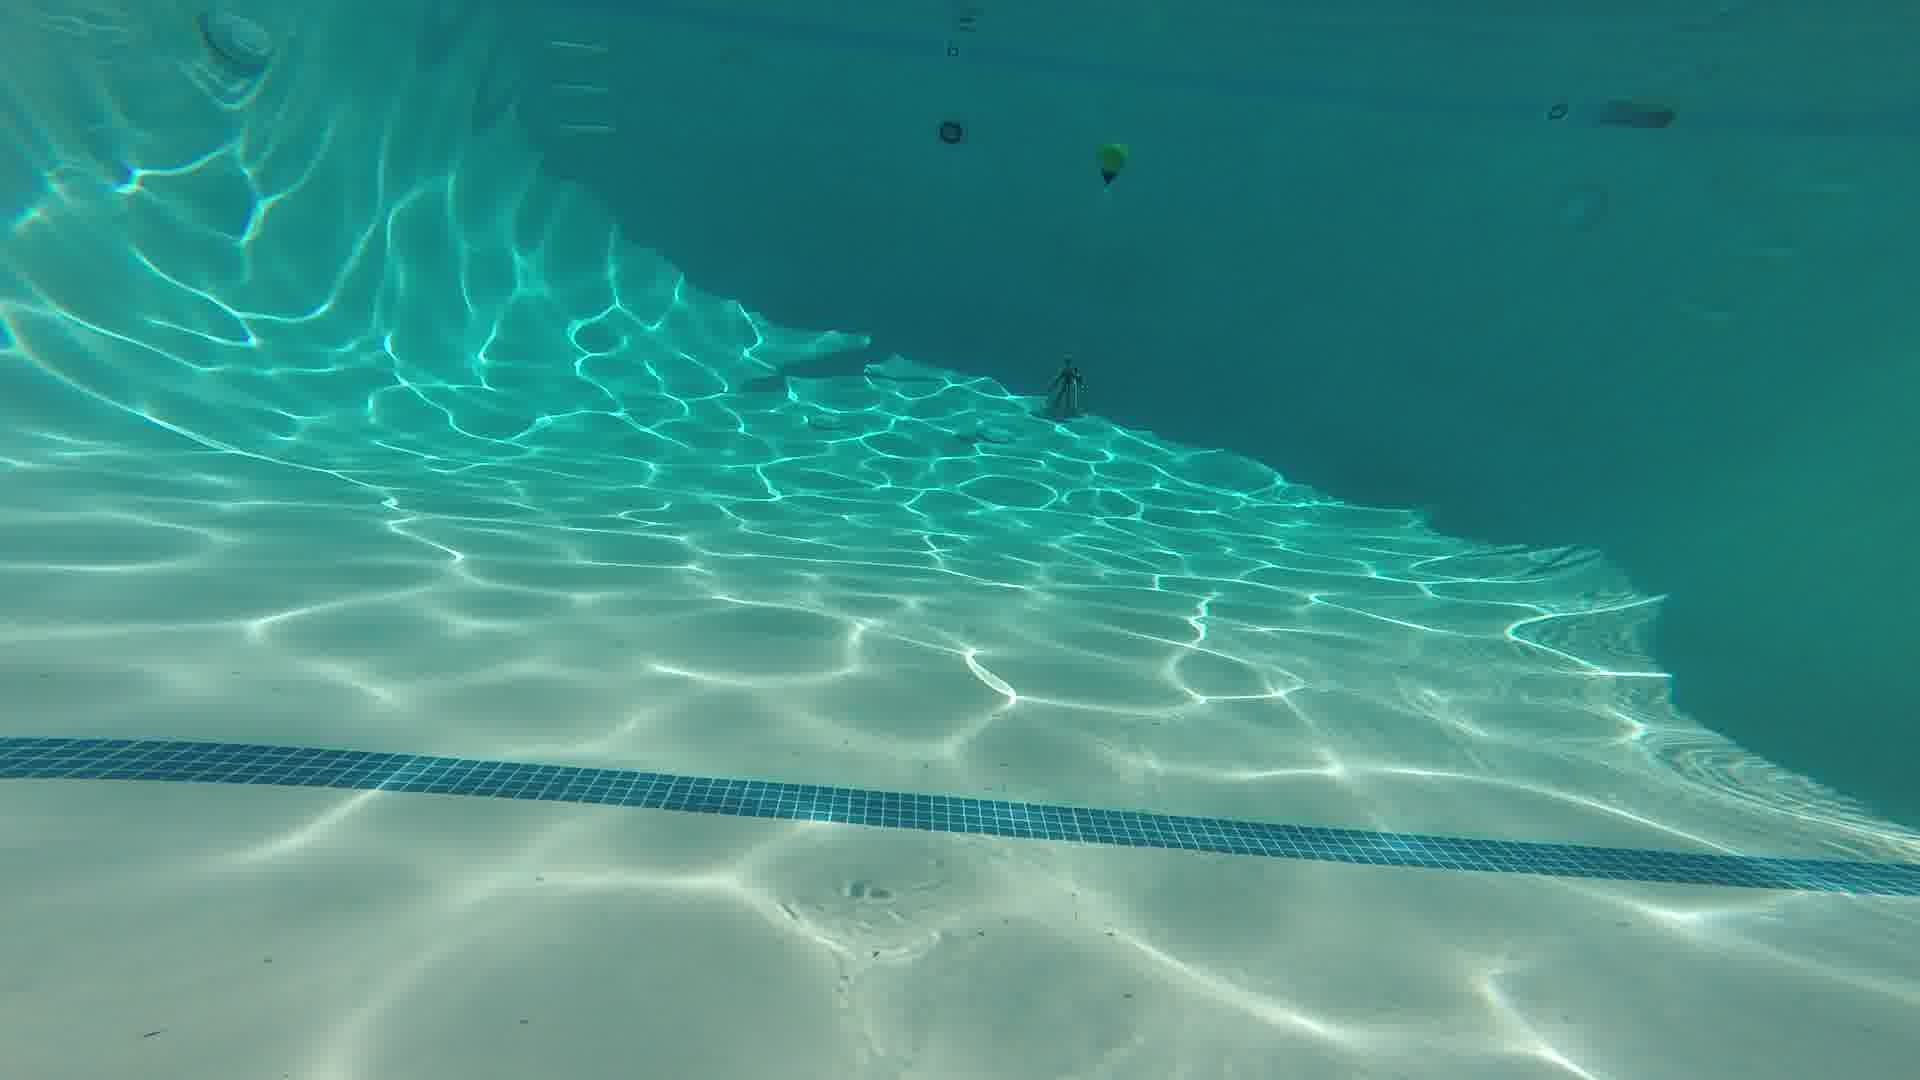yellow buoy: (1091, 133, 1134, 204)
